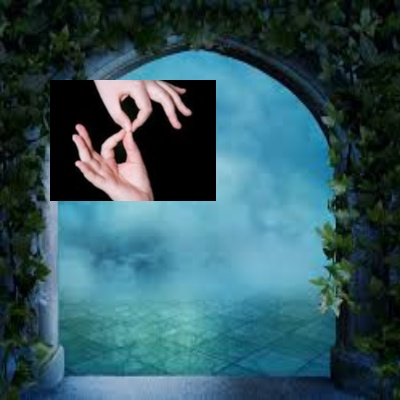hand: (50, 80, 216, 201)
